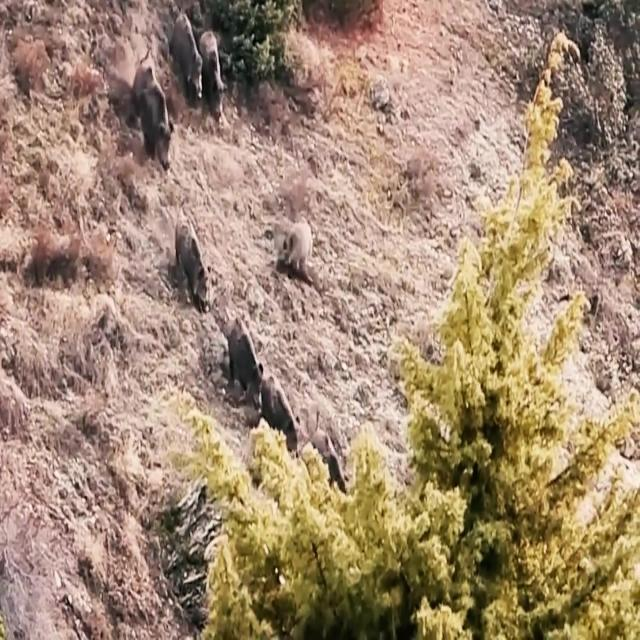pig: (126, 46, 172, 167), (170, 210, 212, 309), (170, 7, 204, 125), (200, 4, 228, 130), (226, 318, 260, 398)
